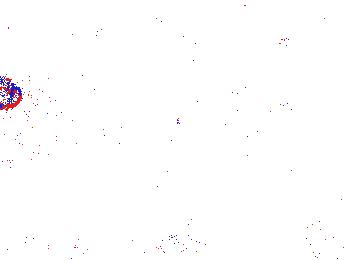X-ray fish: (4, 56, 58, 98), (1, 72, 23, 109)
red belly glassfish: (258, 34, 291, 55)
